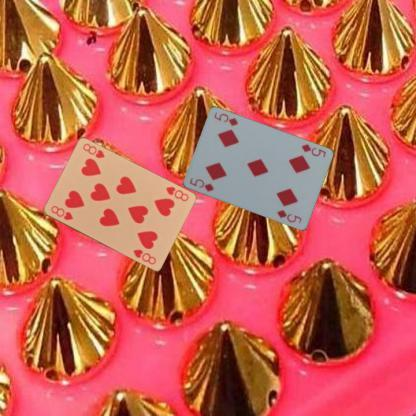5d: (186, 175, 216, 193), (298, 142, 328, 160)
8h: (162, 184, 190, 203), (48, 202, 74, 221)
